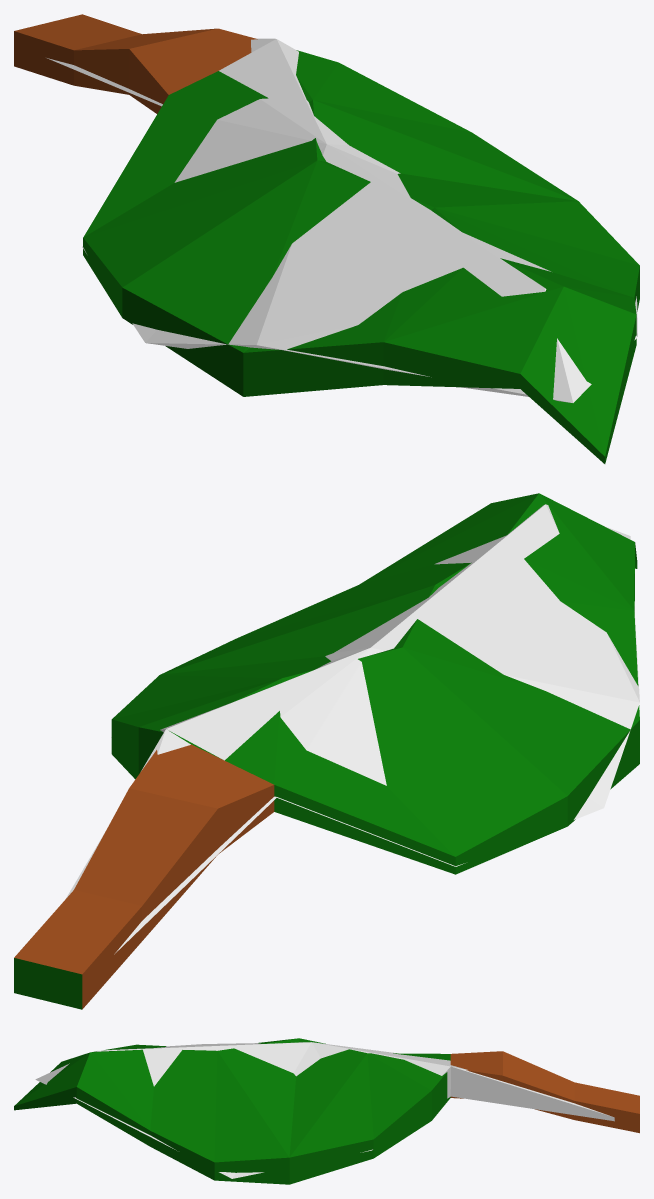
The model's file is buyuk_yaprak_2.fbx.
3 renders of one model, top to bottom at view 1: azimuth 30°, elevation 25°; view 2: azimuth 150°, elevation 25°; view 3: azimuth 270°, elevation 25°, orthographic. The views are drawn at different scales.
Parts seen in each view (by area): view 1: Cube.002, Cube.004; view 2: Cube.002, Cube.004; view 3: Cube.002, Cube.004.
Part boxes in pixels (x1,y1,x2,y2): Cube.002: (14,14,639,463); Cube.004: (47,38,637,402); Cube.002: (14,493,639,1009); Cube.004: (66,504,639,954); Cube.002: (14,1038,639,1184); Cube.004: (35,1042,614,1178).
Bounding box in the file's own units: 1.96 × 0.6255 × 4.39.
